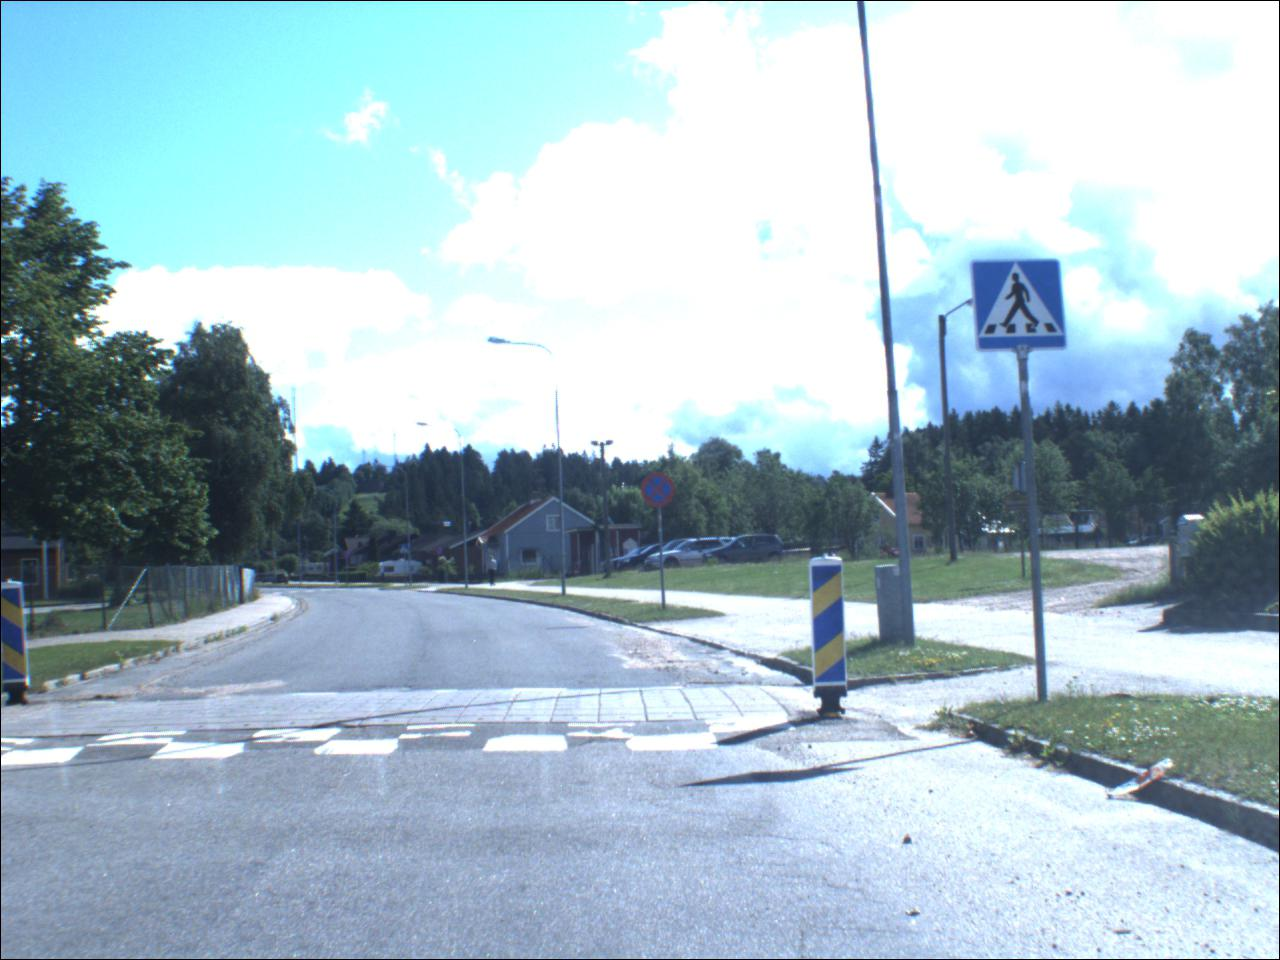NO_STOPPING_NO_STANDING: (642, 473, 679, 511)
PEDESTRIAN_CROSSING: (971, 260, 1073, 357)
